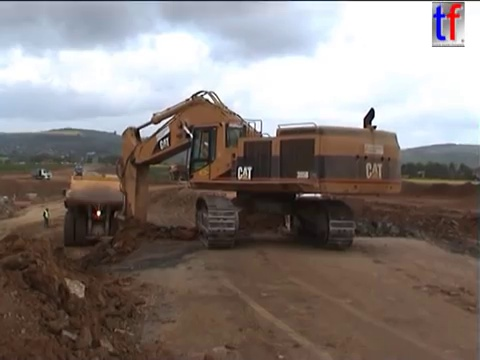excavator: (99, 88, 405, 270)
truck: (60, 172, 138, 247), (166, 162, 191, 182), (29, 167, 53, 182)
worker: (41, 206, 51, 230)
